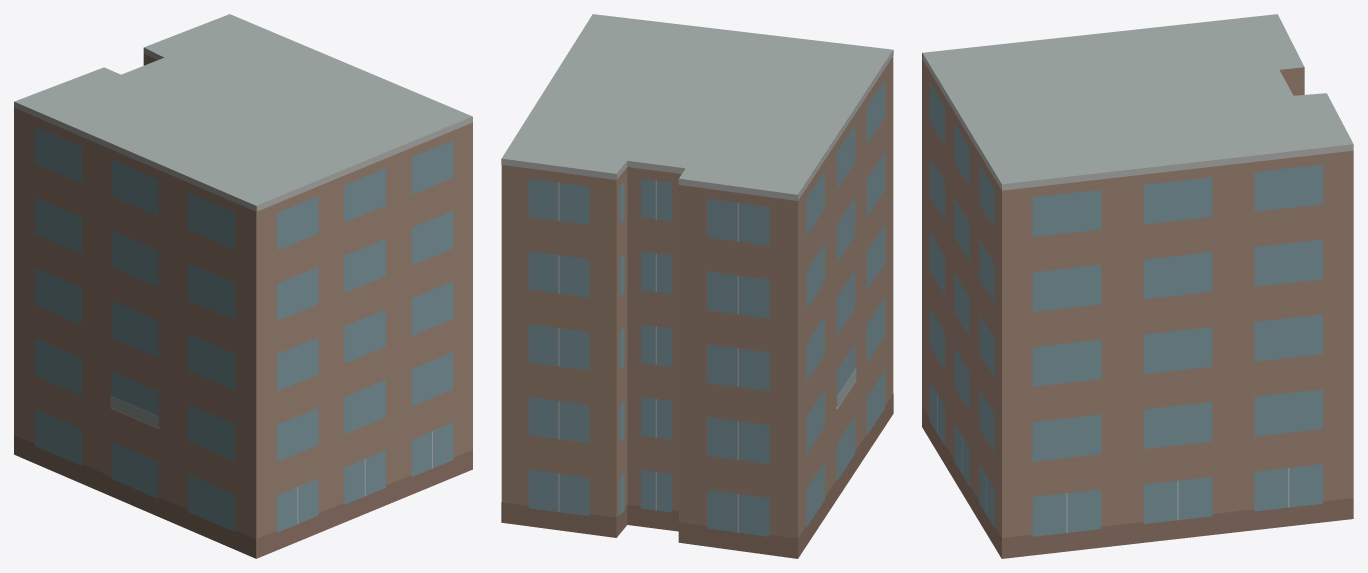
The model's file is survey-upis-32693121.glb.
3 views of the same model, side by side, from view 1: azimuth 30°, elevation 25°; view 2: azimuth 150°, elevation 25°; view 3: azimuth 270°, elevation 25° (orthographic). The views are drawn at different scales.
Parts seen in each view (by area): view 1: survey-upis-32693121.tmp; view 2: survey-upis-32693121.tmp; view 3: survey-upis-32693121.tmp.
Boxes of the visible parts, x1,y1,x2,y2 form: survey-upis-32693121.tmp: (14,14,472,558); survey-upis-32693121.tmp: (501,14,893,558); survey-upis-32693121.tmp: (922,14,1353,558).
Size of the model in its own units: 14.05 by 14.4 by 15.05.
